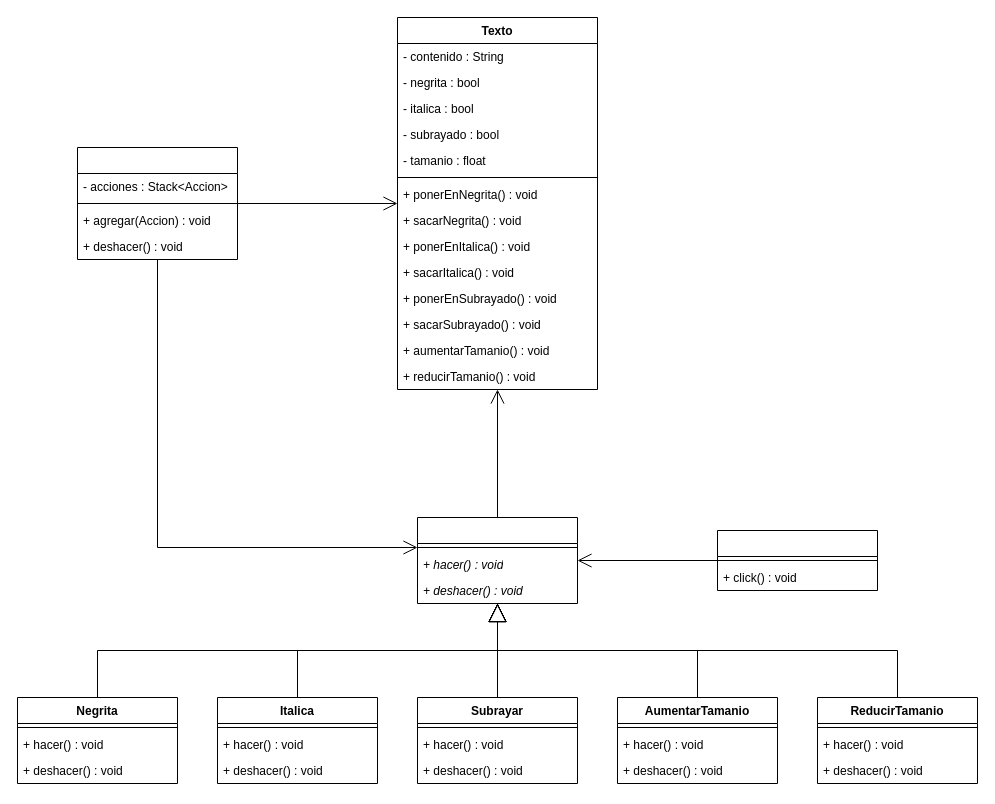
This 995x804 diagram has some shape labels left out. The box of each missing label's shape, as (x1, y1, x2, y2) in pixels:
Accion: (416, 516, 578, 604)
Boton: (716, 530, 878, 590)
Editor: (76, 146, 238, 260)
